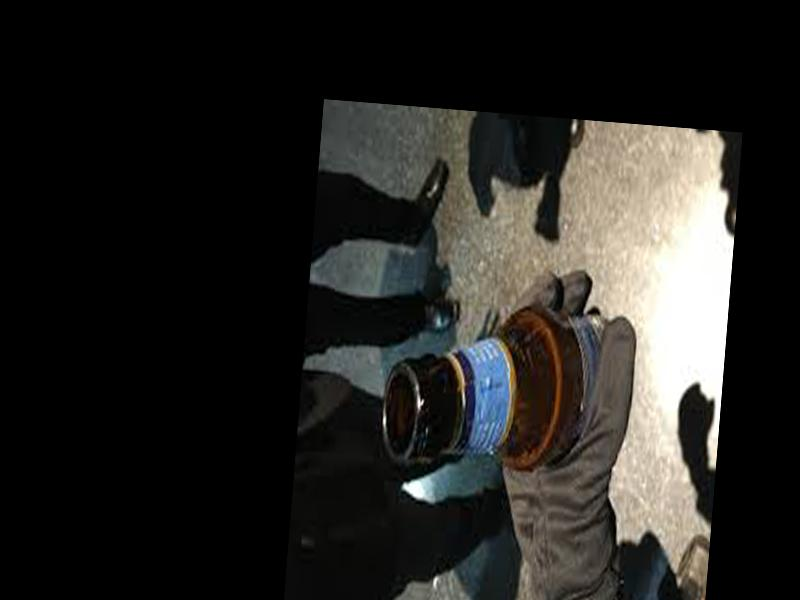Beer: (378, 286, 625, 483)
